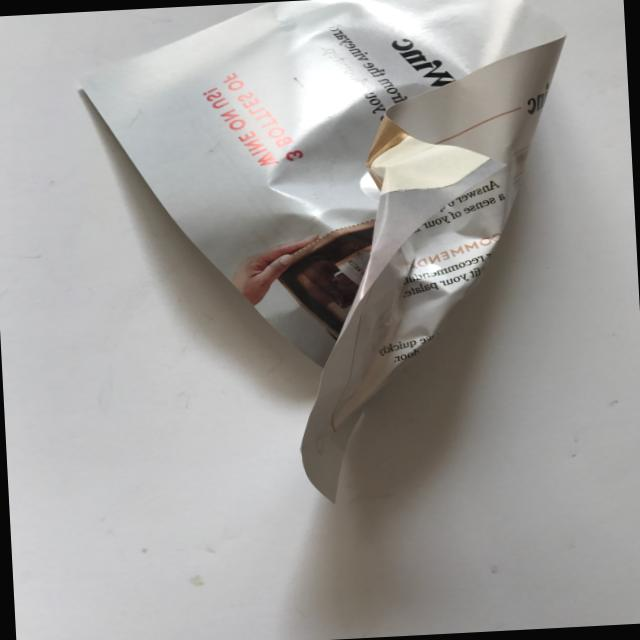Paper: (71, 0, 596, 516)
